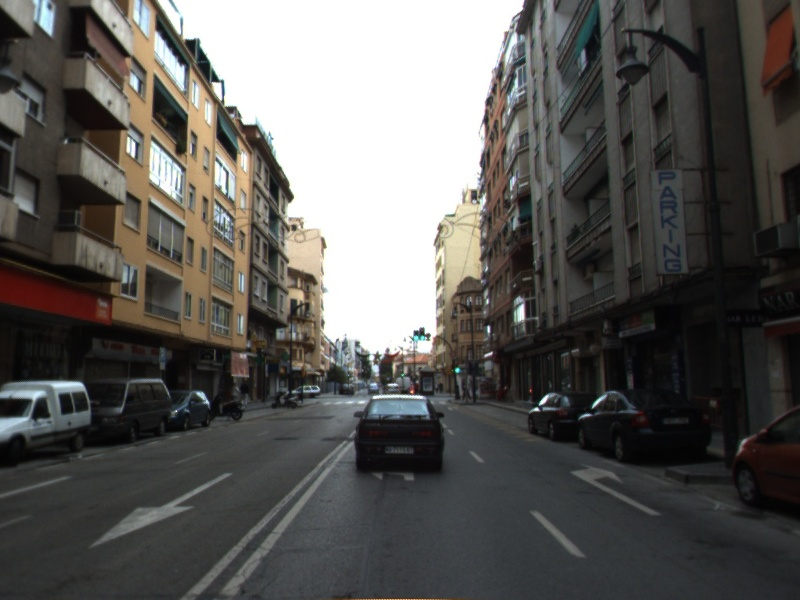RIGHT: (568, 462, 665, 518)
